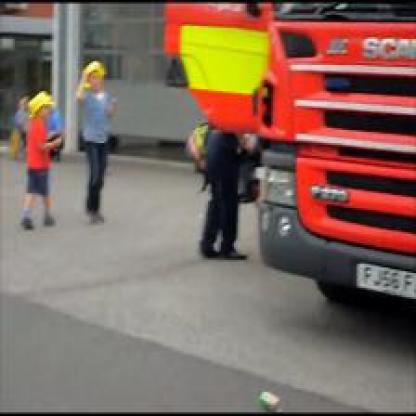other: (174, 15, 306, 136), (24, 54, 112, 110)
